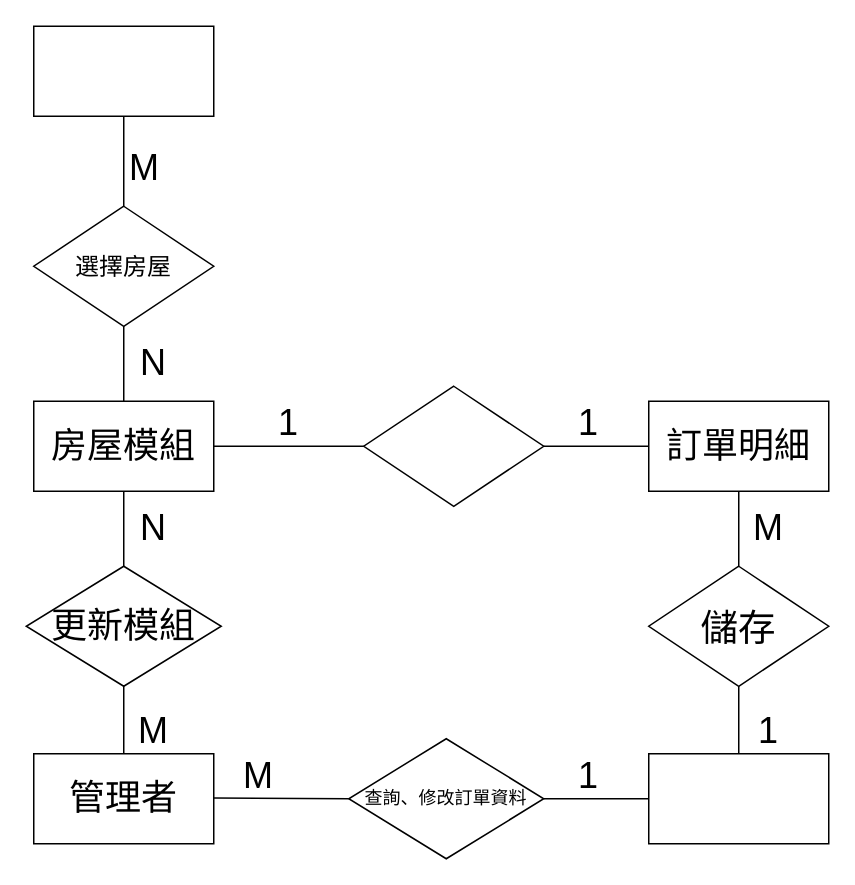
This 855x885 diagram has some shape labels left out. The centre of each missing label's shape, as x and y in pixels:
"下訂單" goes at pixel 453 445.
"使用者" goes at pixel 123 70.
"資料庫" goes at pixel 738 798.
